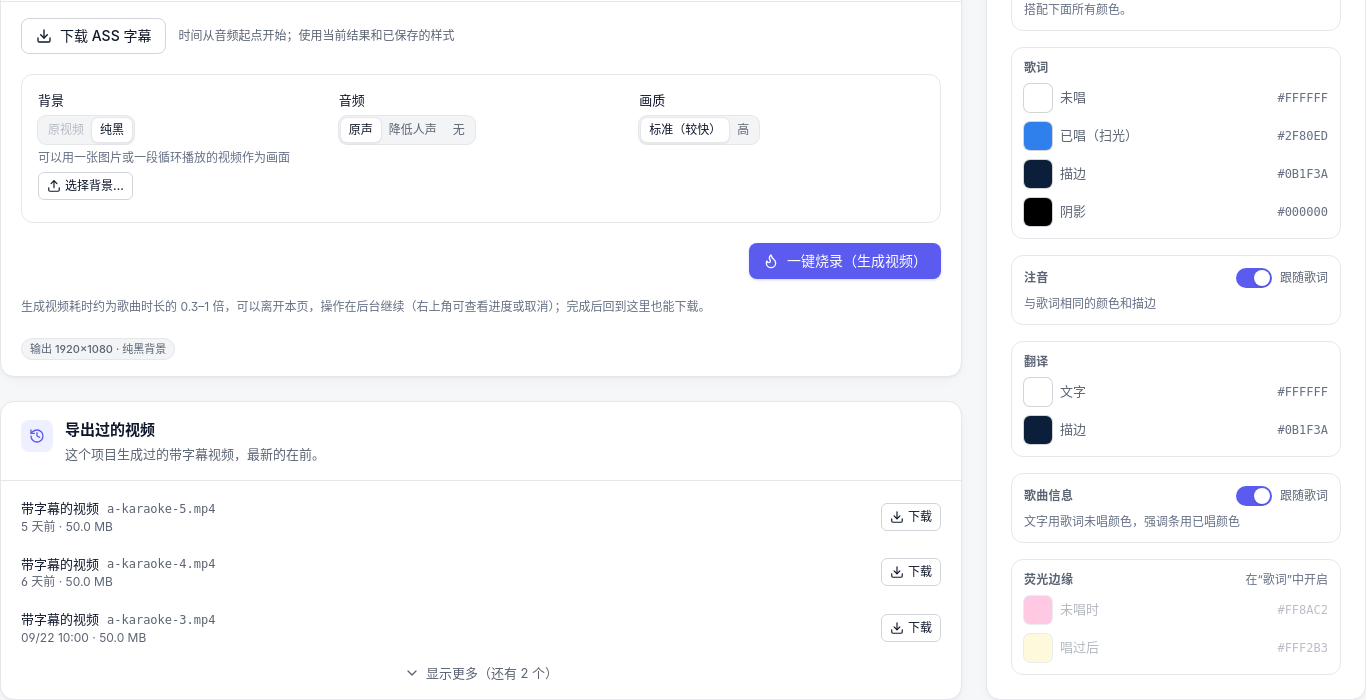
it: job outputs survive leaving the page (F-H3) › below the burn: the videos made before, the newest three, the rest folded
(page scrolled)
Check: the text "a-karaoke-5.mp4" is shown, box [107,501,215,517]
Check: the text "a-karaoke-3.mp4" is shown, box [107,612,215,628]
Click the button "显示更多（还有 2 个）" at point(481, 673), box [9,656,953,691]
(page scrolled)
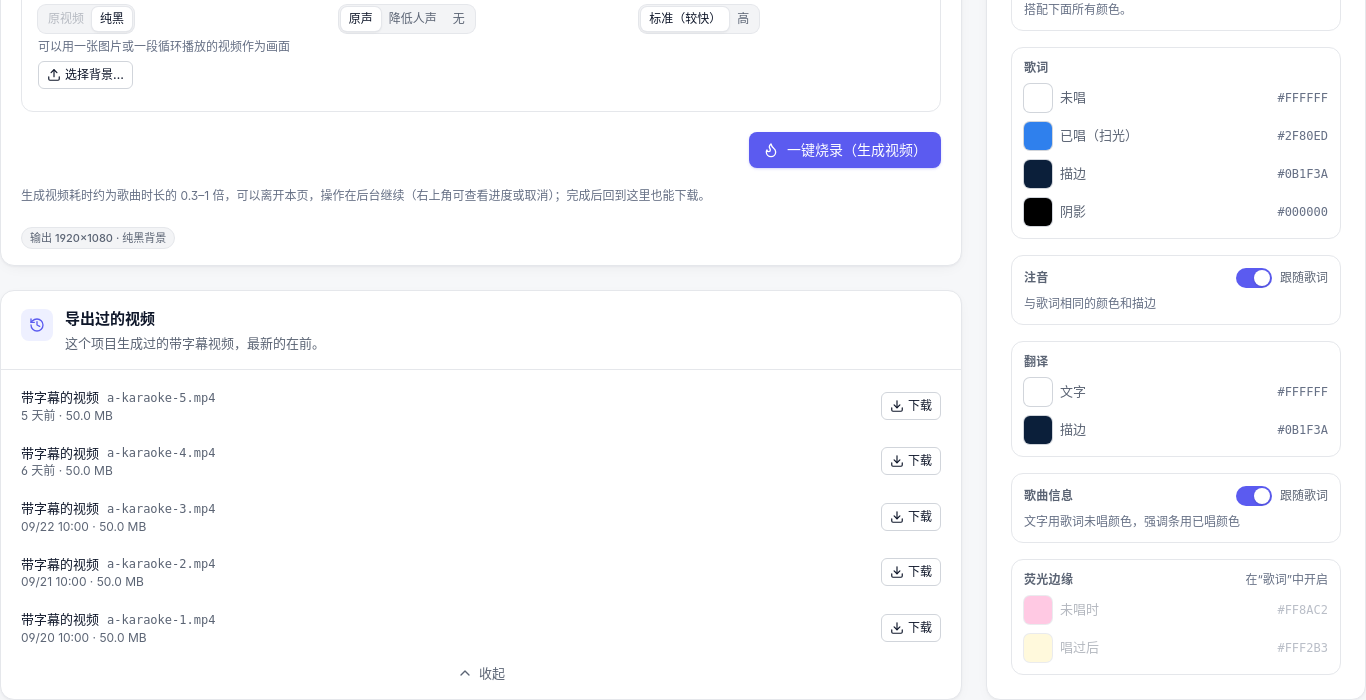
Check: the text "a-karaoke-1.mp4" is shown, box [107,612,215,628]
Check: the number of buttons "下载" is 5, box [881,392,941,420]; [881,447,941,475]; [881,503,941,531]; [881,558,941,586]; [881,614,941,642]
